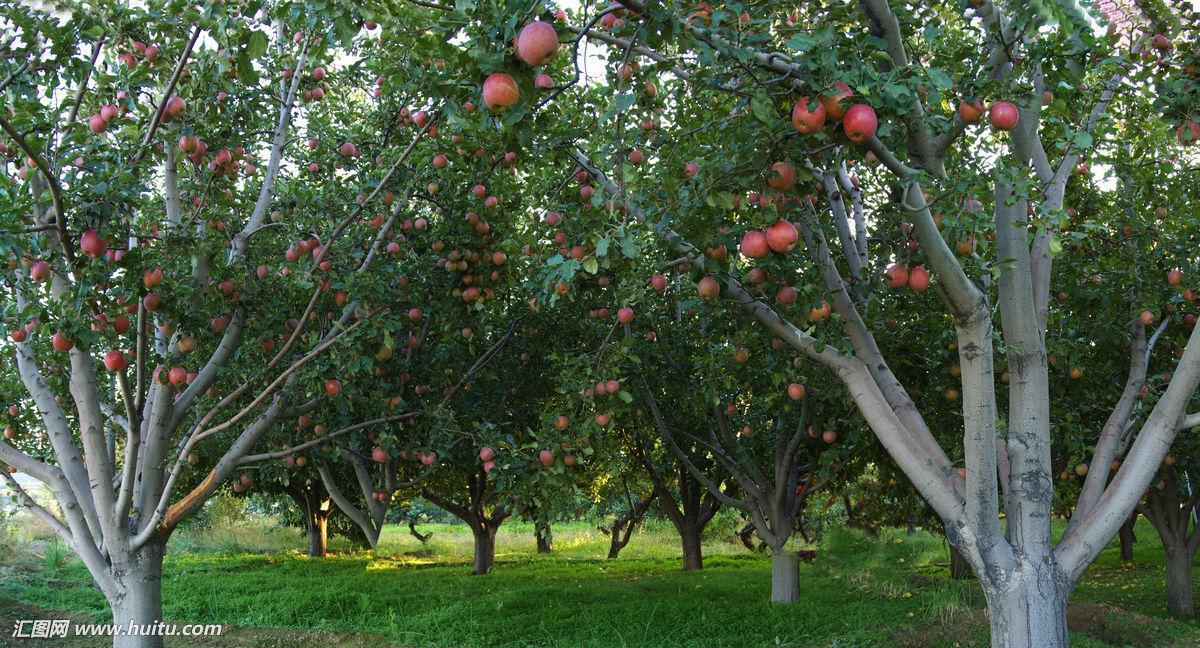apple: (514, 24, 558, 64), (483, 73, 519, 110), (844, 103, 878, 142), (794, 98, 826, 133), (821, 84, 853, 118), (767, 221, 799, 251), (989, 100, 1018, 133), (742, 230, 768, 258)
